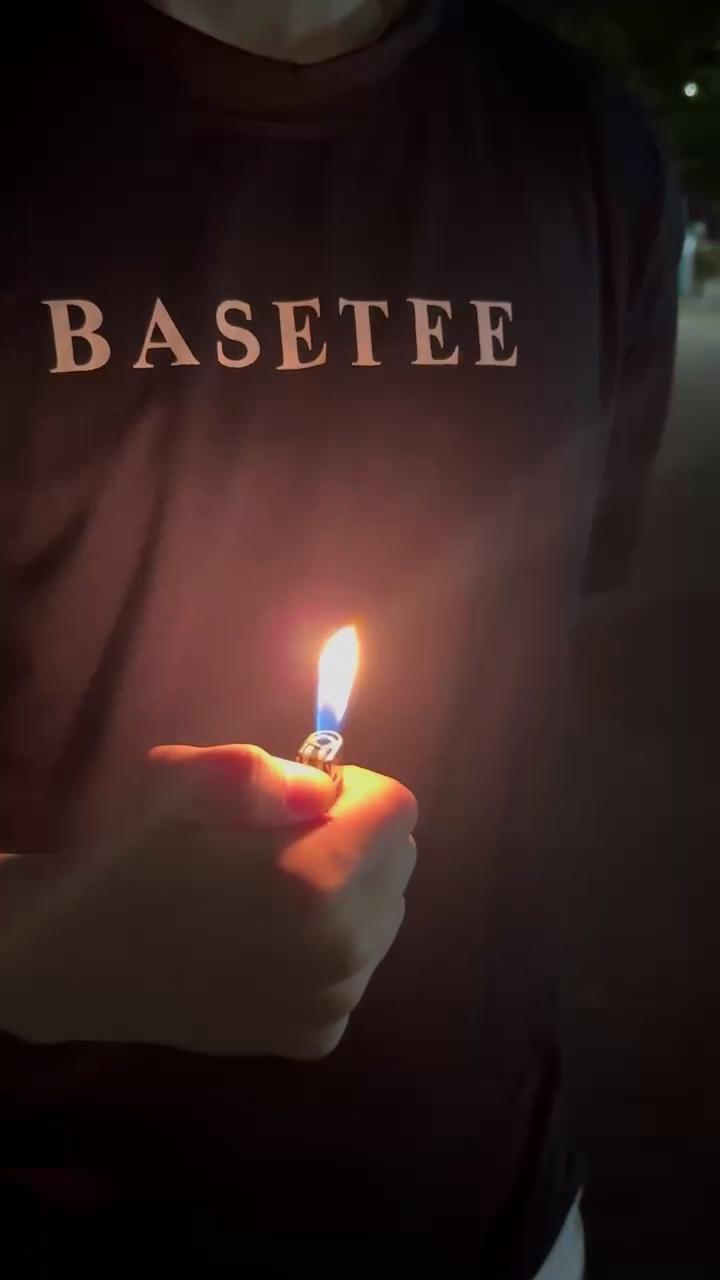Fire: (295, 608, 388, 775)
